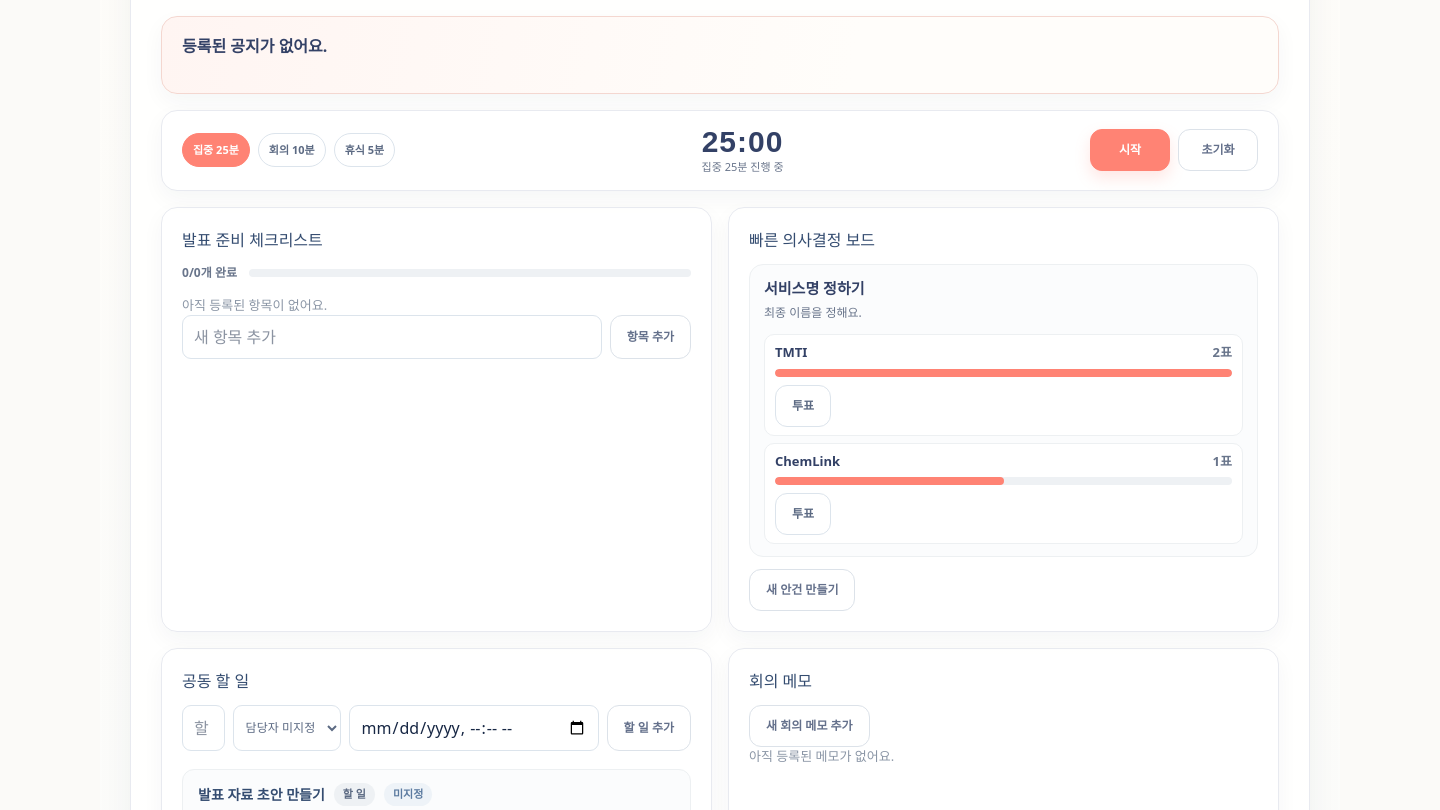
Test: WorkspacePage 실제 모드 — 확장 기능 API 연동 › 의사결정 액션이 실패해도 오류는 의사결정 카드 안에만 표시되고 다른 카드는 계속 쓸 수 있다
(page scrolled)
Click the button "투표" below "TMTI" at (803, 406), box [775,385,831,427]
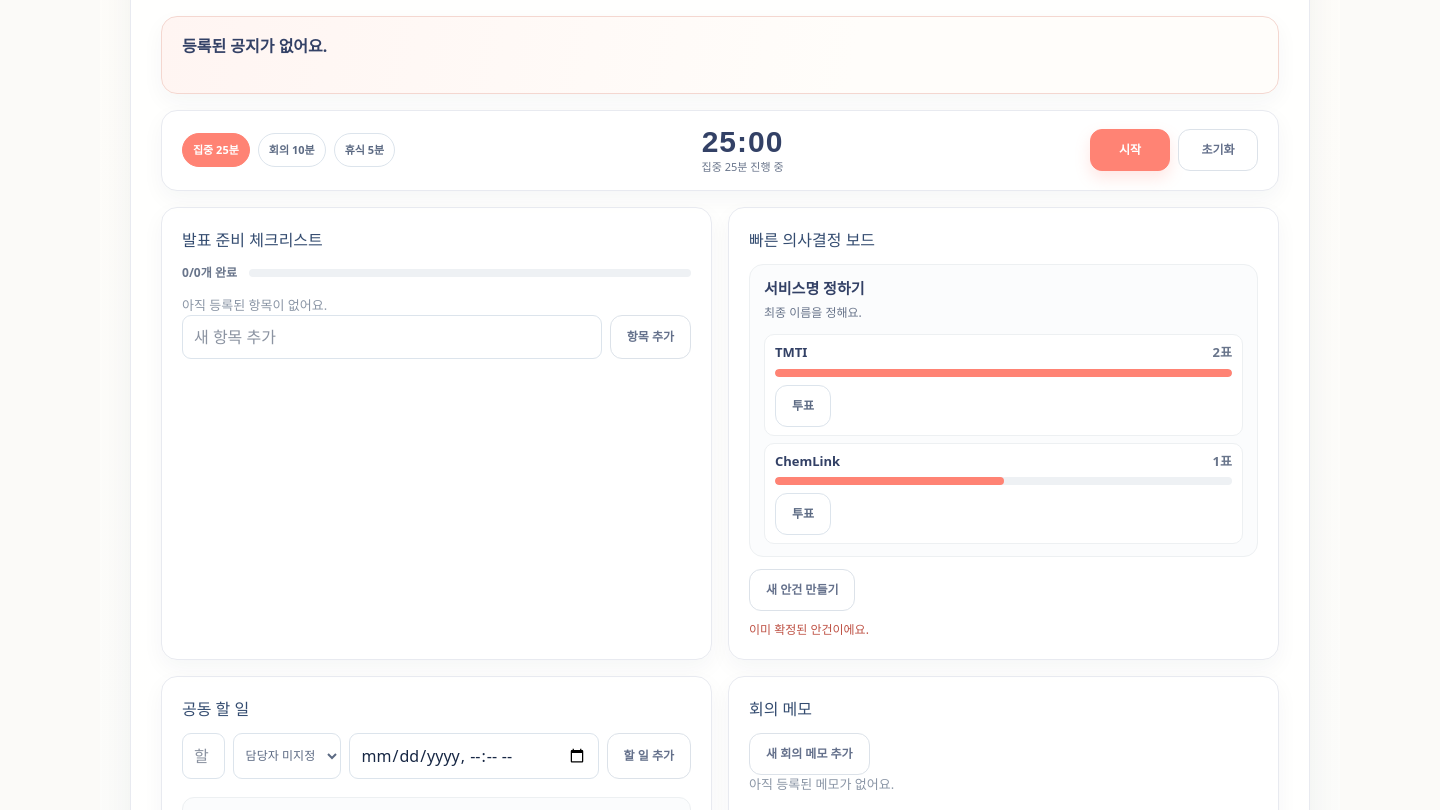
Expected: the button "할 일 추가" is shown, [607,733,691,779]
Expected: the text "이미 확정된 안건이에요." is shown, [749,621,869,638]
